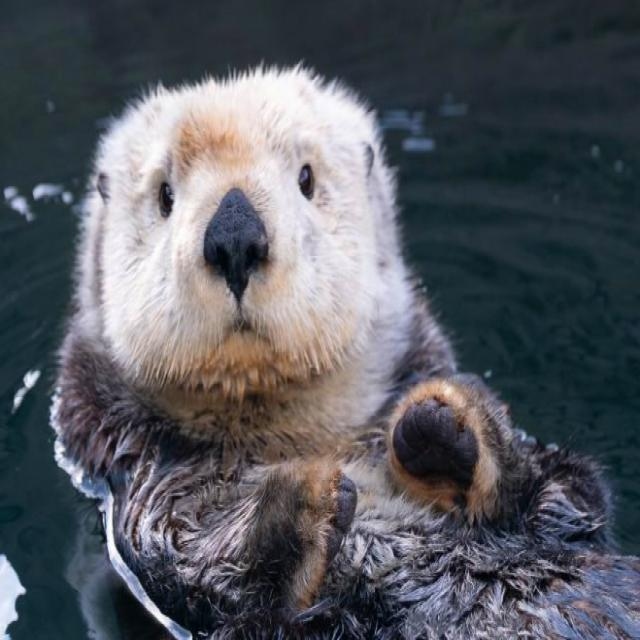otter: (51, 67, 640, 639)
